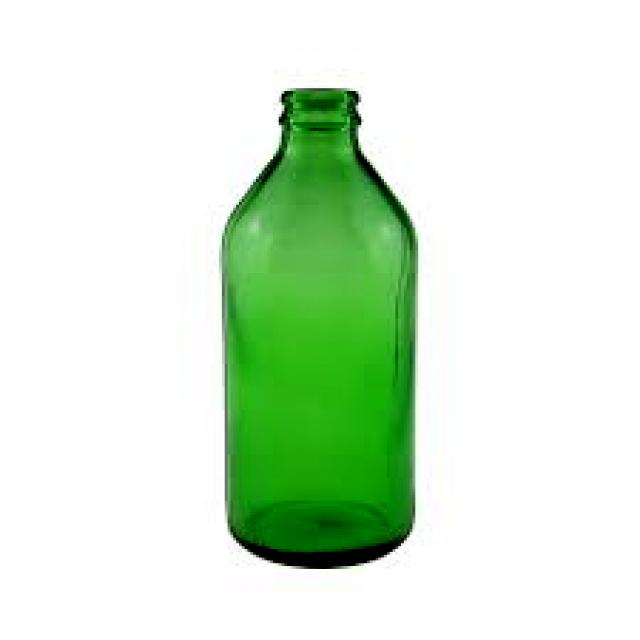Glass: (217, 82, 421, 579)
